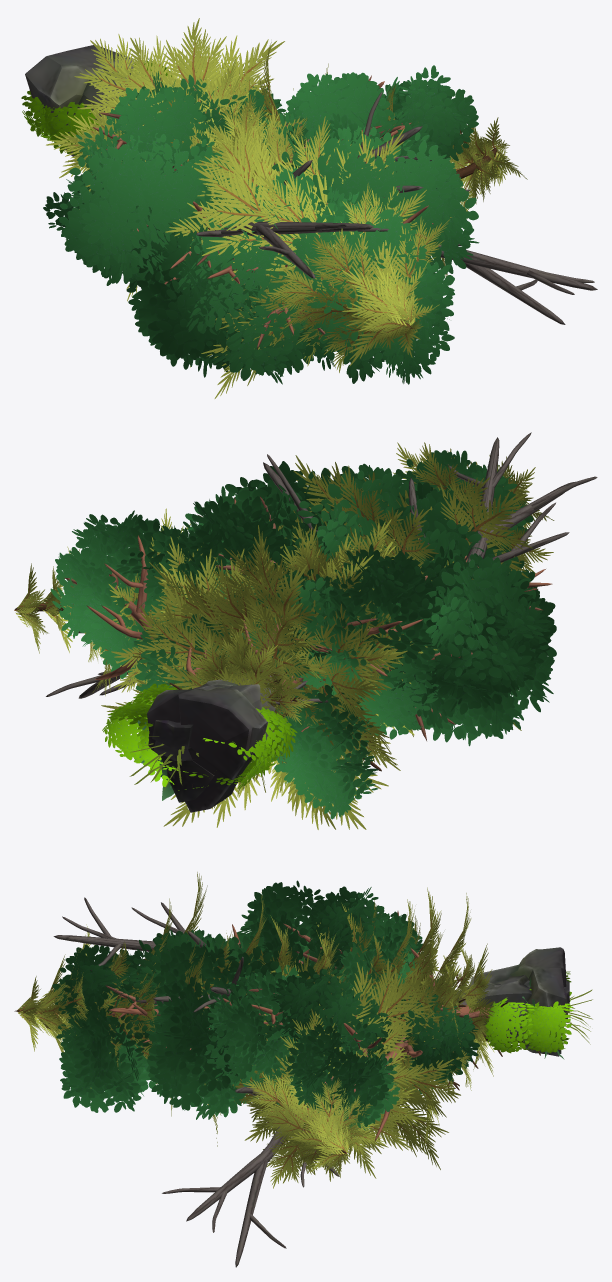
The model's file is nature.glb.
The picture shows the model from 3 angles, top to bottom: view 1: azimuth 30°, elevation 25°; view 2: azimuth 150°, elevation 25°; view 3: azimuth 270°, elevation 25°; orthographic projection. The views are drawn at different scales.
Parts seen in each view (by area): view 1: NormalTree_2, PineTree_2, NormalTree_3, PineTree_1, PineTree_5, DeadTree_6, PineTree_4, Rock_5, NormalTree_5, Bush_Large, Bush_Small, DeadTree_1; view 2: NormalTree_2, NormalTree_3, PineTree_5, NormalTree_5, PineTree_2, PineTree_1, PineTree_4, Rock_5, DeadTree_6, PineTree_3, Bush_Large, Bush_Small (+5 smaller); view 3: NormalTree_2, NormalTree_3, PineTree_4, NormalTree_5, PineTree_2, DeadTree_6, PineTree_5, Rock_5, PineTree_1, Bush_Large, PineTree_3, Bush_Small (+1 smaller).
Boxes of the visible parts, x1,y1,x2,y2 form: NormalTree_2: [58, 72, 479, 384]; PineTree_2: [165, 116, 449, 398]; NormalTree_3: [70, 65, 478, 377]; PineTree_1: [72, 35, 307, 209]; PineTree_5: [46, 18, 285, 301]; DeadTree_6: [196, 92, 597, 324]; PineTree_4: [141, 42, 527, 367]; Rock_5: [25, 45, 133, 156]; NormalTree_5: [43, 71, 286, 261]; Bush_Large: [24, 63, 171, 155]; Bush_Small: [21, 58, 171, 137]; DeadTree_1: [164, 197, 433, 349]; NormalTree_2: [130, 450, 556, 740]; NormalTree_3: [50, 477, 556, 746]; PineTree_5: [132, 525, 407, 829]; NormalTree_5: [133, 568, 380, 819]; PineTree_2: [231, 442, 554, 736]; PineTree_1: [142, 519, 437, 807]; PineTree_4: [14, 508, 421, 829]; Rock_5: [147, 679, 275, 812]; DeadTree_6: [46, 432, 597, 698]; PineTree_3: [166, 624, 324, 790]; Bush_Large: [106, 683, 297, 785]; Bush_Small: [102, 702, 272, 789]; NormalTree_2: [52, 880, 393, 1119]; NormalTree_3: [202, 887, 473, 1140]; PineTree_4: [216, 933, 522, 1188]; NormalTree_5: [338, 911, 492, 1094]; PineTree_2: [14, 872, 446, 1146]; DeadTree_6: [53, 897, 492, 1267]; PineTree_5: [307, 893, 494, 1102]; Rock_5: [442, 947, 566, 1056]; PineTree_1: [253, 887, 502, 1146]; Bush_Large: [484, 997, 568, 1053]; PineTree_3: [424, 946, 540, 1069]; Bush_Small: [525, 971, 573, 1053].
Bounding box in the file's own units: 6.14 × 3.74 × 7.4.
Materials: 9 (9 with a texture image).
